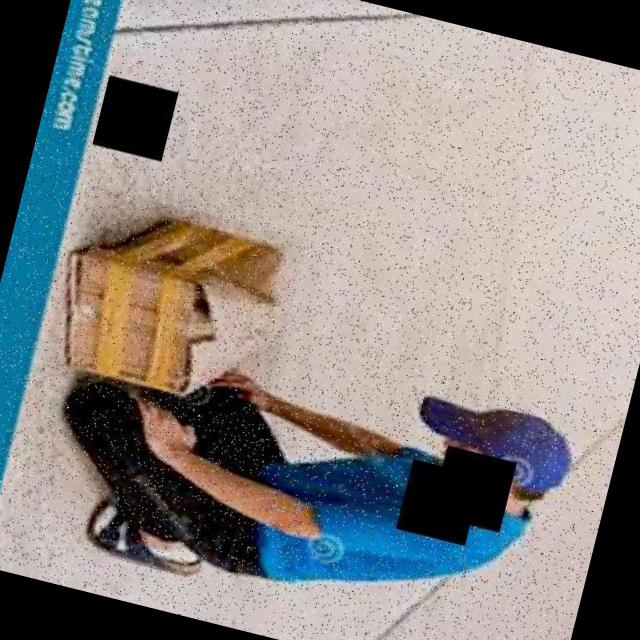box: (39, 184, 308, 428)
